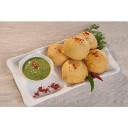bonda: (62, 59, 89, 82), (85, 48, 108, 74), (63, 37, 90, 59), (46, 44, 66, 65)
